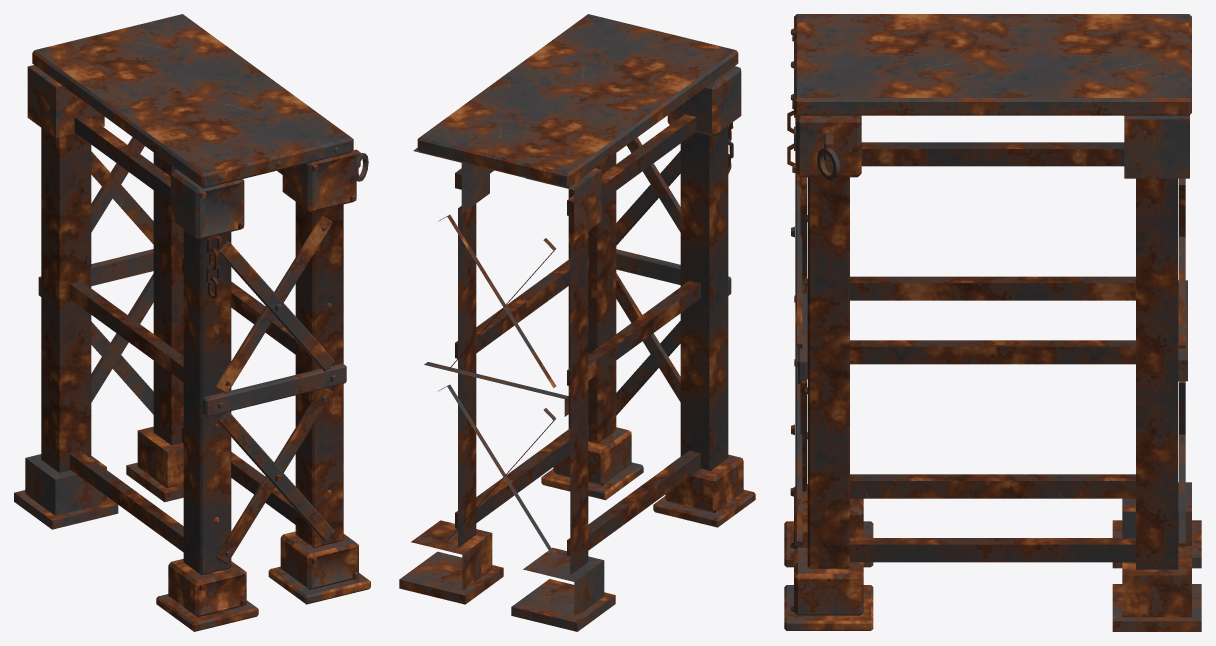
File: Support_S.glb
The picture shows the model from 3 angles, left to right: view 1: azimuth 30°, elevation 25°; view 2: azimuth 150°, elevation 25°; view 3: azimuth 270°, elevation 25°; orthographic projection. The views are drawn at different scales.
Visible parts, largest first — view 1: Support_S; view 2: Support_S; view 3: Support_S.
Boxes of the visible parts, box(x1,y1,x2,y2) form: Support_S: box(14, 14, 370, 631); Support_S: box(399, 14, 755, 631); Support_S: box(784, 14, 1201, 631).
Bounding box in the file's own units: 1.37 × 3 × 2.16.
Materials: 2 (2 with a texture image).
